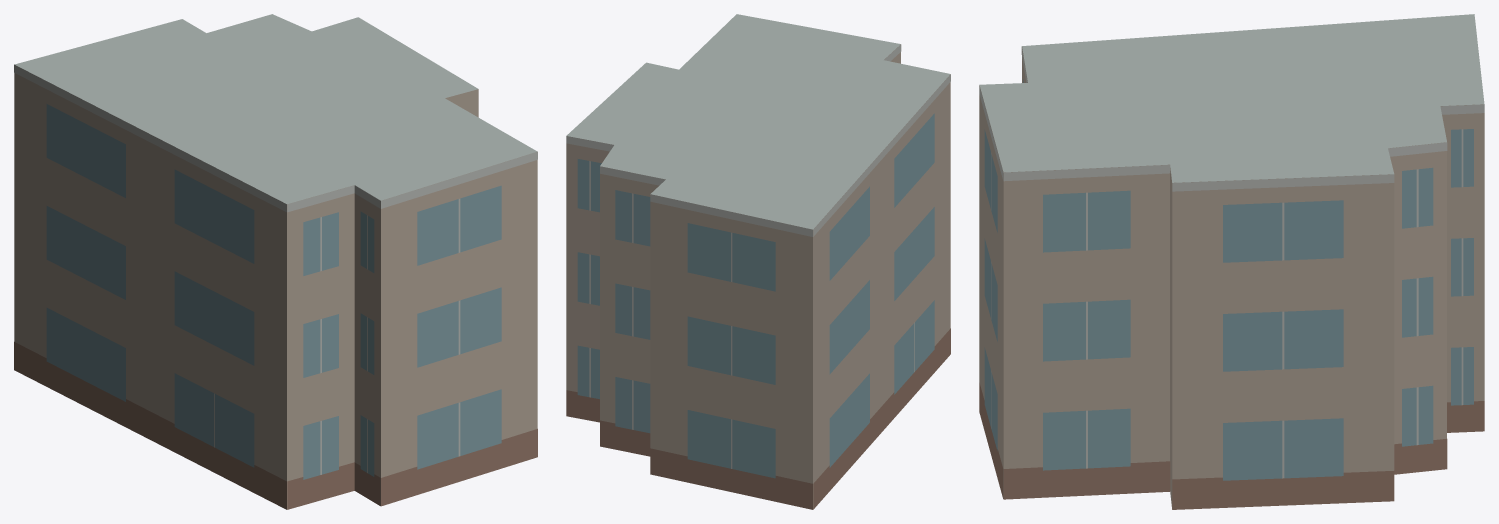
Rendered from survey-upis-32491519.glb.
3 renders of one model, left to right at view 1: azimuth 30°, elevation 25°; view 2: azimuth 150°, elevation 25°; view 3: azimuth 270°, elevation 25°, orthographic. The views are drawn at different scales.
Visible parts, largest first — view 1: survey-upis-32491519.tmp; view 2: survey-upis-32491519.tmp; view 3: survey-upis-32491519.tmp.
Part boxes in pixels (left/top/right/bottom): survey-upis-32491519.tmp: left=14, top=14, right=537, bottom=509; survey-upis-32491519.tmp: left=566, top=14, right=950, bottom=509; survey-upis-32491519.tmp: left=979, top=14, right=1484, bottom=509.
Bounding box in the file's own units: 10.09 × 9.1 × 12.75.
